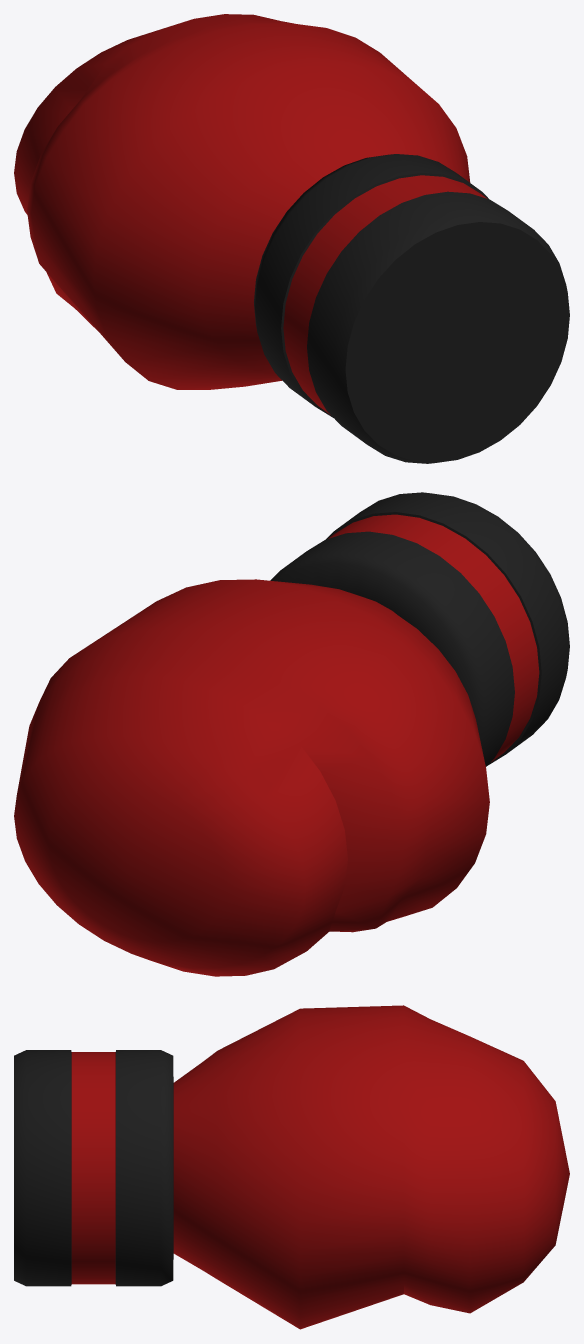
Rendered from BoxingGlovePickup.fbx.
3 views of the same model, one above another, from view 1: azimuth 30°, elevation 25°; view 2: azimuth 150°, elevation 25°; view 3: azimuth 270°, elevation 25° (orthographic). The views are drawn at different scales.
Parts seen in each view (by area): view 1: Circle; view 2: Circle; view 3: Circle.
Part boxes in pixels (<box>): Circle: <box>14,14,569,463</box>; Circle: <box>14,492,569,976</box>; Circle: <box>14,1005,569,1329</box>.
Size of the model in its own units: 279 by 217 by 405.
